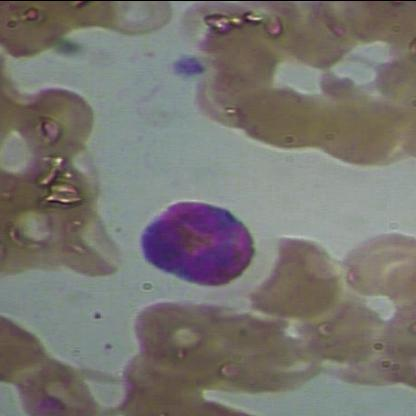Platelets: (168, 54, 204, 84)
RBC: (247, 227, 344, 325), (9, 80, 101, 158), (228, 86, 328, 154), (309, 102, 409, 170), (270, 0, 362, 72), (216, 334, 316, 400), (124, 296, 218, 366), (327, 230, 415, 297), (47, 356, 145, 415), (5, 356, 102, 415), (60, 212, 120, 285), (82, 1, 176, 44), (355, 1, 415, 57), (0, 316, 50, 383), (367, 51, 415, 110)
WBC: (131, 186, 268, 290)
